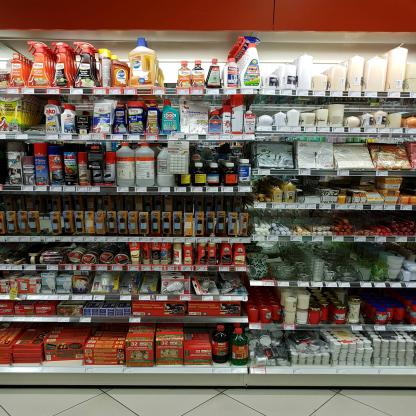Void: (28, 97, 42, 127), (362, 290, 372, 322), (161, 66, 177, 86), (298, 176, 314, 194)
